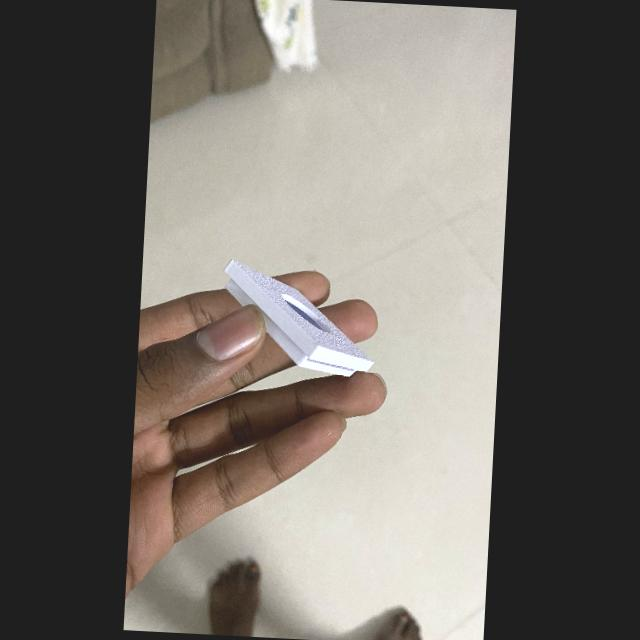RASPBERY PI CAM ENCLOSURE: (224, 260, 373, 377)
